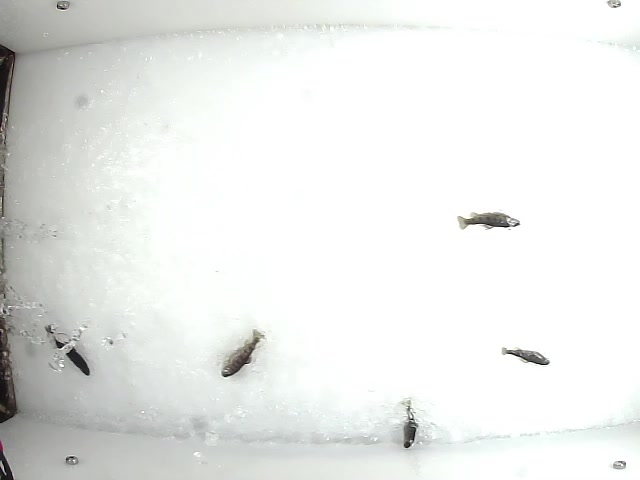fish: (43, 323, 92, 377), (218, 326, 267, 378), (455, 212, 521, 234), (500, 344, 551, 367), (399, 394, 419, 449)
